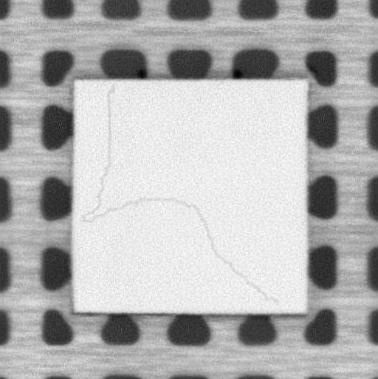DIE_CRACK: (102, 194, 282, 301), (83, 84, 113, 221)
